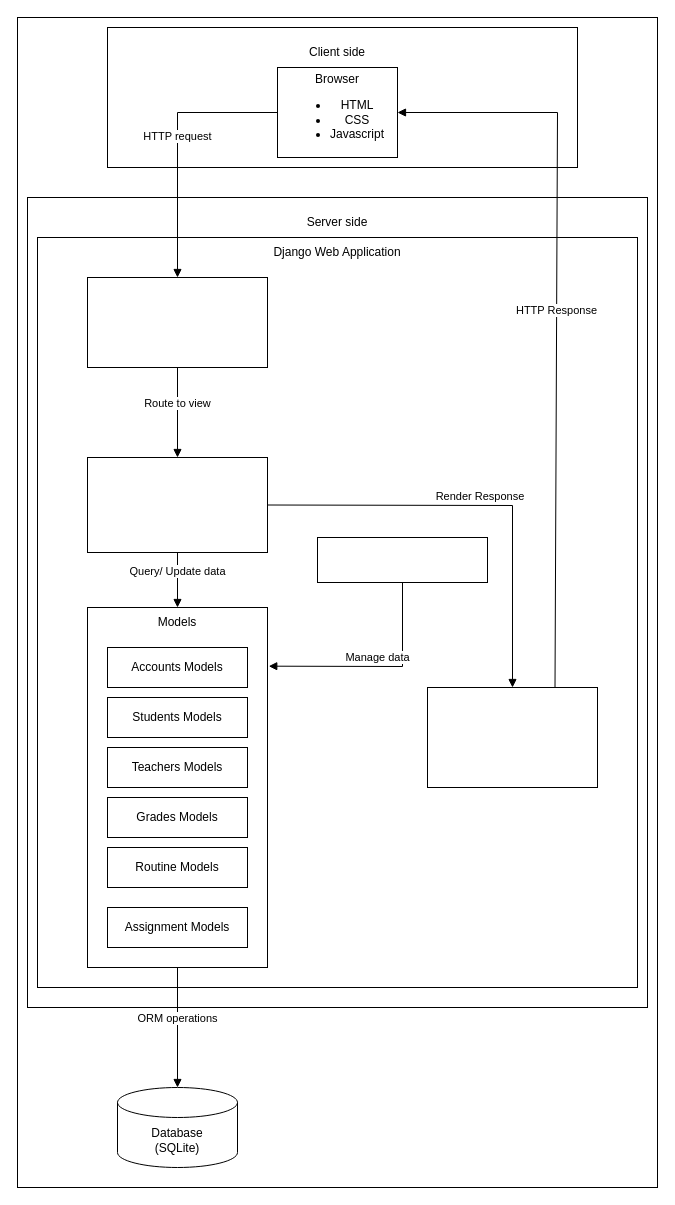
Image size: 675x1205. Some labels were removed from this diagram. Here are the shapes that lost their labels. From the top down, the centre of each, then its label:
pixel 177 322: URLs url patterns routing
pixel 177 504: Views process requests business logic
pixel 402 559: Django Admin Interface
pixel 512 737: Templates HTML templates Django template tags
